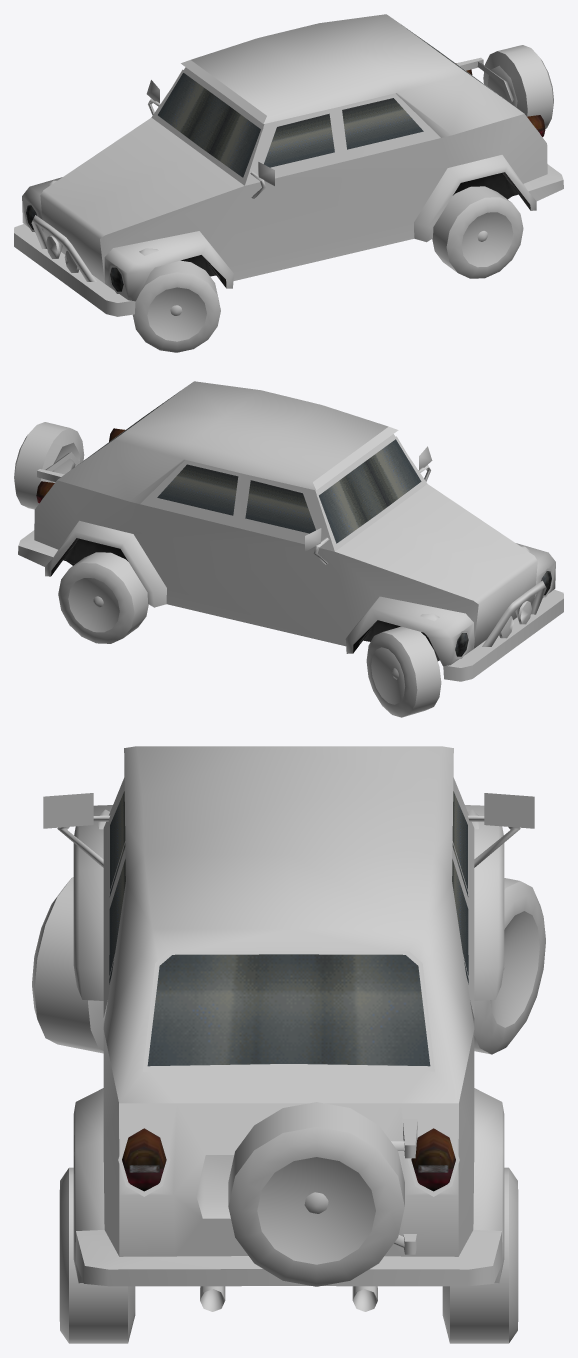
File: Pueblo74.fbx
The picture shows the model from 3 angles, top to bottom: view 1: azimuth 30°, elevation 25°; view 2: azimuth 150°, elevation 25°; view 3: azimuth 270°, elevation 25°; orthographic projection. The views are drawn at different scales.
Visible parts, largest first — view 1: body_lp, Object003, Object011, Object009, Object008, Object005, Object012, Object002; view 2: body_lp, Object003, Sport454, Object010, Object008, Object005, Object012, Object002; view 3: body_lp, Object003, Object008, Object010, Object009, Sport454, Object011, Object012, Object002.
Boxes of the visible parts, bbox=[...] form: body_lp: bbox=[14, 14, 563, 316]; Object003: bbox=[158, 27, 499, 177]; Object011: bbox=[432, 186, 523, 278]; Object009: bbox=[132, 260, 220, 352]; Object008: bbox=[483, 45, 553, 128]; Object005: bbox=[181, 172, 530, 287]; Object012: bbox=[146, 57, 513, 198]; Object002: bbox=[26, 63, 545, 291]; body_lp: bbox=[18, 381, 563, 681]; Object003: bbox=[84, 393, 421, 543]; Sport454: bbox=[58, 552, 148, 643]; Object010: bbox=[366, 626, 441, 717]; Object008: bbox=[14, 422, 84, 509]; Object005: bbox=[51, 538, 439, 661]; Object012: bbox=[37, 446, 432, 564]; Object002: bbox=[36, 428, 551, 656]; body_lp: bbox=[73, 746, 504, 1311]; Object003: bbox=[109, 791, 468, 1066]; Object008: bbox=[228, 1102, 404, 1286]; Object010: bbox=[474, 878, 545, 1054]; Object009: bbox=[32, 877, 103, 1053]; Sport454: bbox=[442, 1167, 518, 1343]; Object011: bbox=[59, 1167, 135, 1343]; Object012: bbox=[43, 793, 534, 1254]; Object002: bbox=[122, 1128, 455, 1191].
Bounding box in the file's own units: 4092 × 1626 × 1853.
